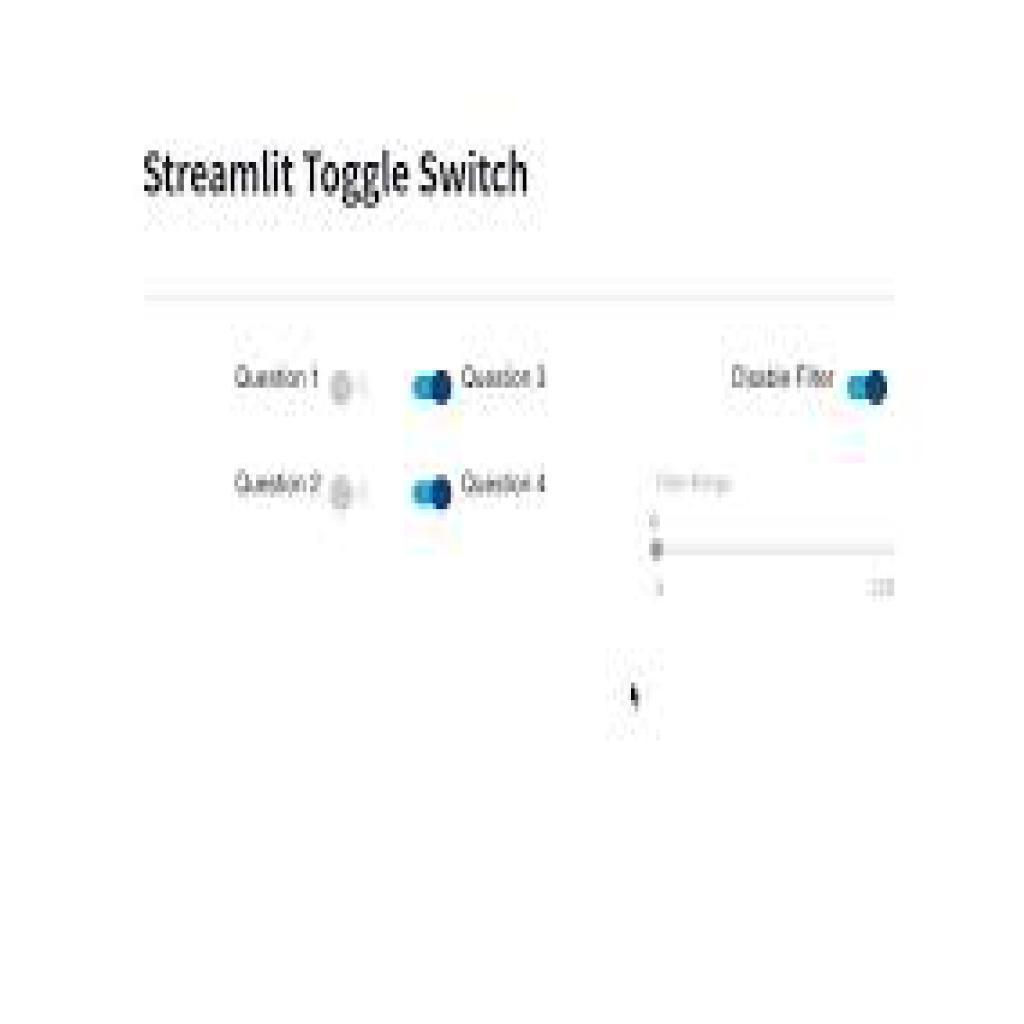label: (723, 360, 841, 400), (457, 465, 556, 503), (226, 465, 327, 500), (459, 360, 549, 399), (232, 361, 322, 400)
radio: (326, 473, 363, 523), (325, 363, 358, 412)
slider: (641, 531, 909, 571)
switch: (403, 466, 456, 530), (405, 359, 460, 416), (842, 359, 891, 418)
